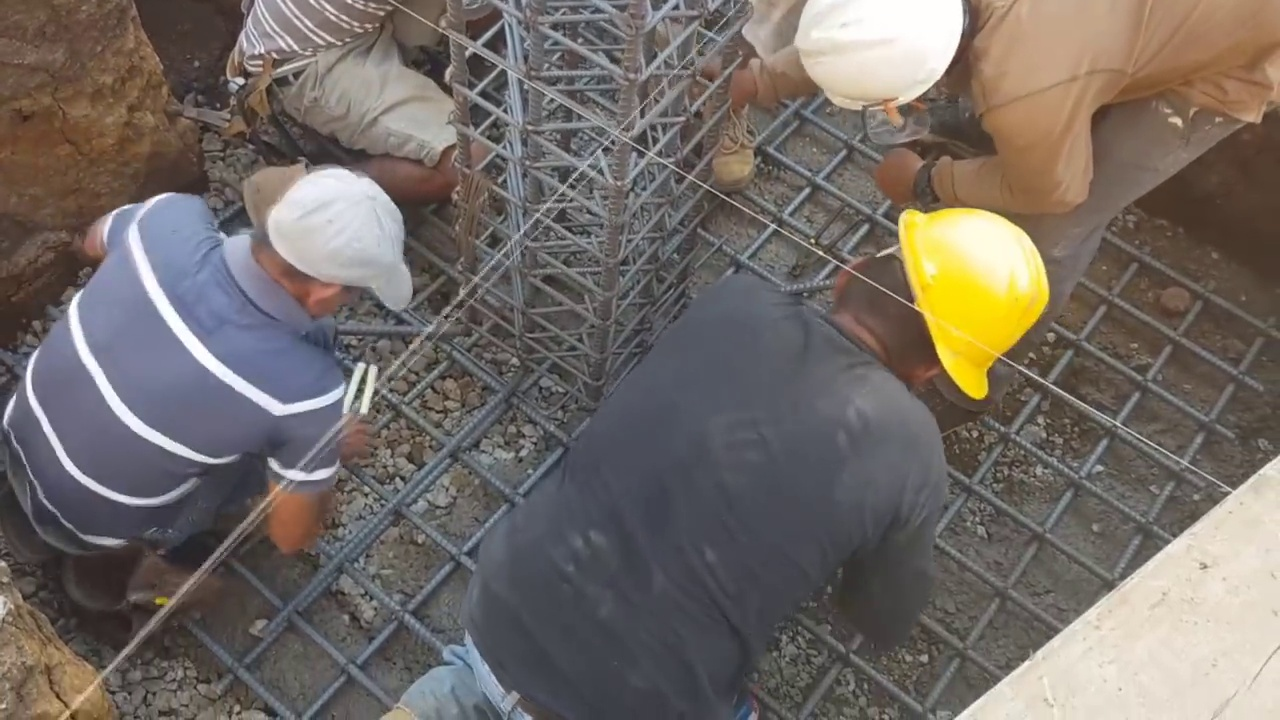helmet: (896, 197, 1049, 395), (791, 1, 962, 112)
helmet-off: (249, 159, 415, 314)
helmet-on: (814, 194, 1050, 395), (796, 2, 998, 122)
person: (429, 194, 1051, 720), (15, 154, 410, 608), (794, 0, 1280, 336), (219, 0, 517, 206), (648, 0, 793, 199)
